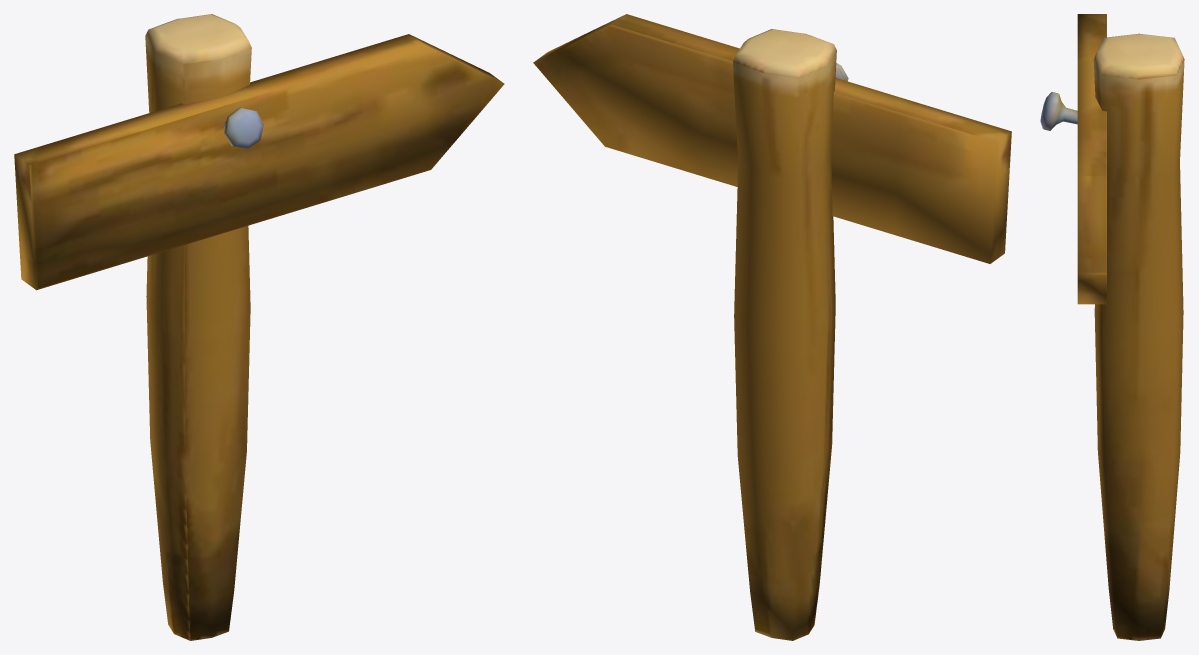
Rendered from WoodenSign2-optimized.glb.
The picture shows the model from 3 angles, left to right: view 1: azimuth 30°, elevation 25°; view 2: azimuth 150°, elevation 25°; view 3: azimuth 270°, elevation 25°; orthographic projection. The views are drawn at different scales.
Parts seen in each view (by area): view 1: Cube.009; view 2: Cube.009; view 3: Cube.009.
Part boxes in pixels (x1,y1,x2,y2): Cube.009: (14,14,504,640); Cube.009: (533,14,1011,640); Cube.009: (1040,14,1184,640).
Bounding box in the file's own units: 0.701 × 0.8393 × 0.1893.
1 material, 1 textured.
